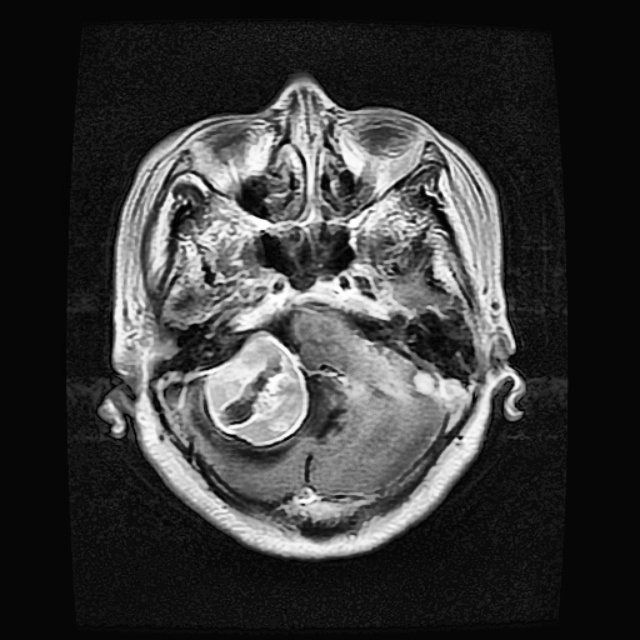Pituitary: (205, 329, 308, 444)
